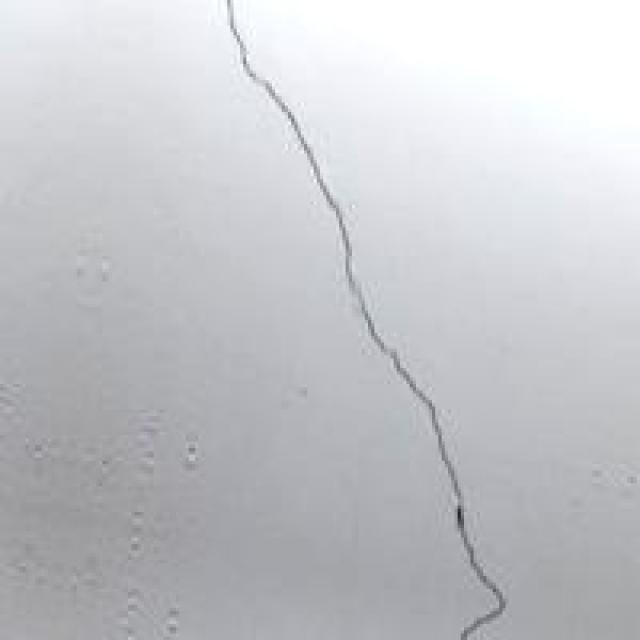SurfaceCrack: (198, 4, 522, 640)
